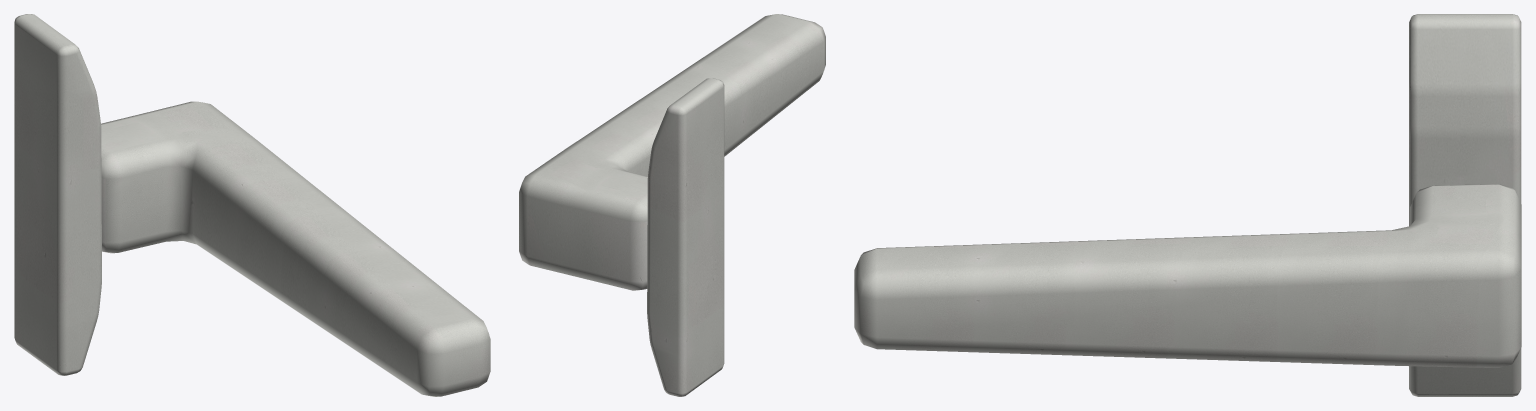
The model's file is handle.fbx.
The picture shows the model from 3 angles, left to right: view 1: azimuth 30°, elevation 25°; view 2: azimuth 150°, elevation 25°; view 3: azimuth 270°, elevation 25°; orthographic projection. The views are drawn at different scales.
Visible parts, largest first — view 1: polySurface722; view 2: polySurface722; view 3: polySurface722.
Part boxes in pixels (x1=…): polySurface722: x1=14, y1=14, x2=490, y2=396; polySurface722: x1=519, y1=14, x2=825, y2=396; polySurface722: x1=854, y1=14, x2=1521, y2=396.
Bounding box in the file's own units: 0.0592 × 0.0957 × 0.1541.
